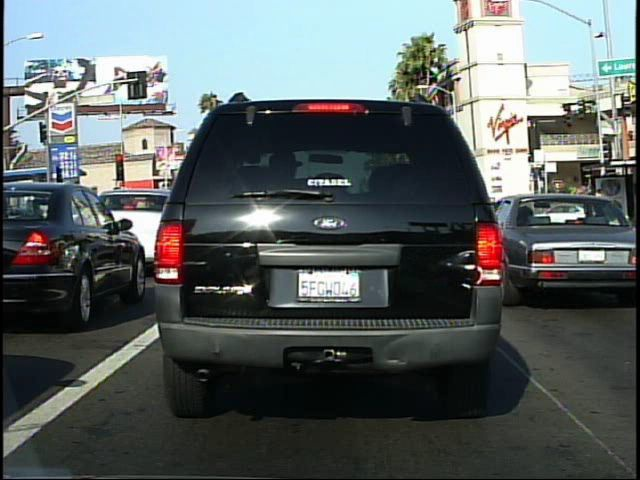person: (590, 184, 612, 252)
